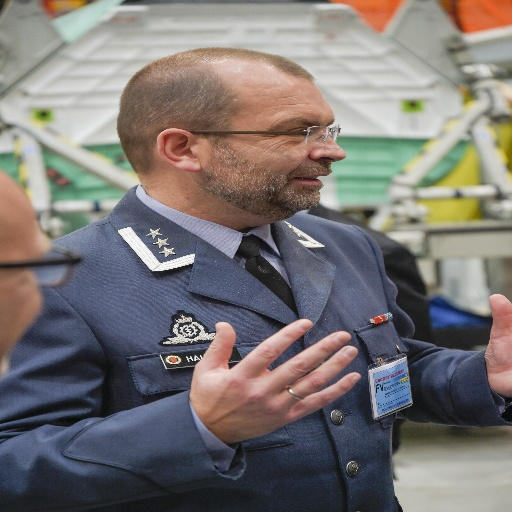hand: (189, 333, 344, 440), (482, 292, 511, 401)
